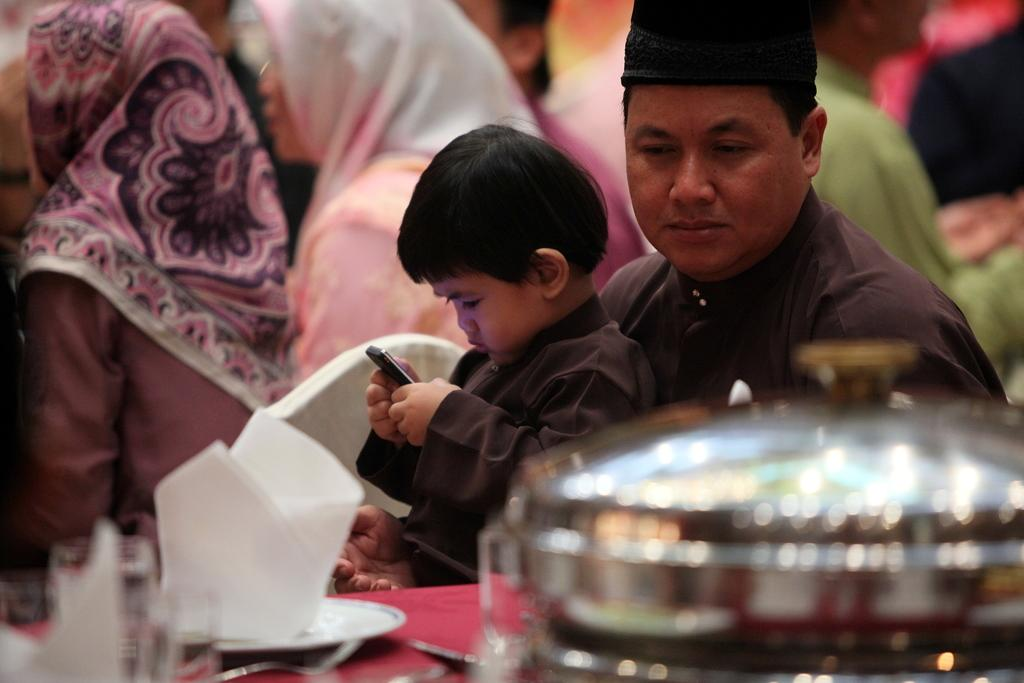Sem Máscara: (624, 91, 803, 269), (431, 270, 551, 361)
